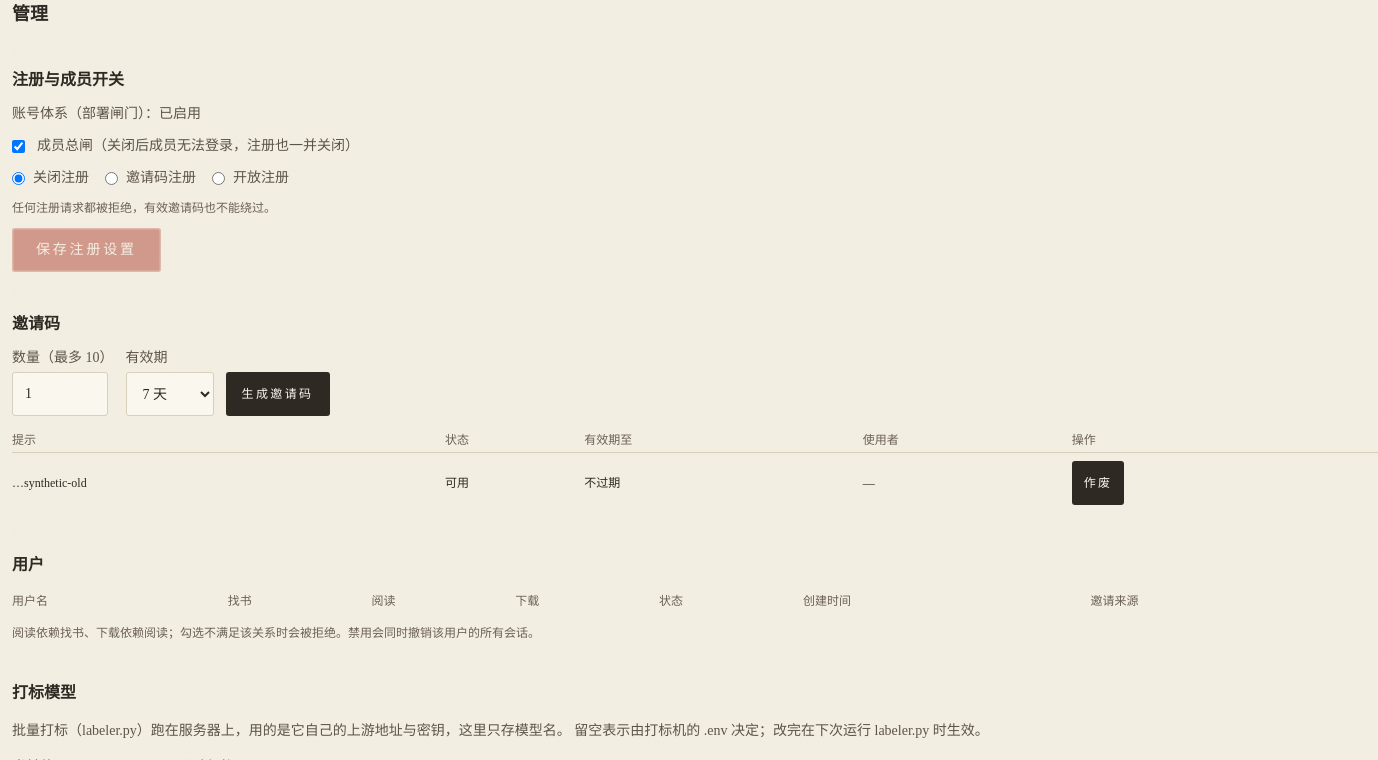
Test: keeps generated codes and the old list after refresh network failure
This screenshot has width=1378, height=760.
Click the button "生成邀请码" at (278, 394), box [226, 372, 330, 416]
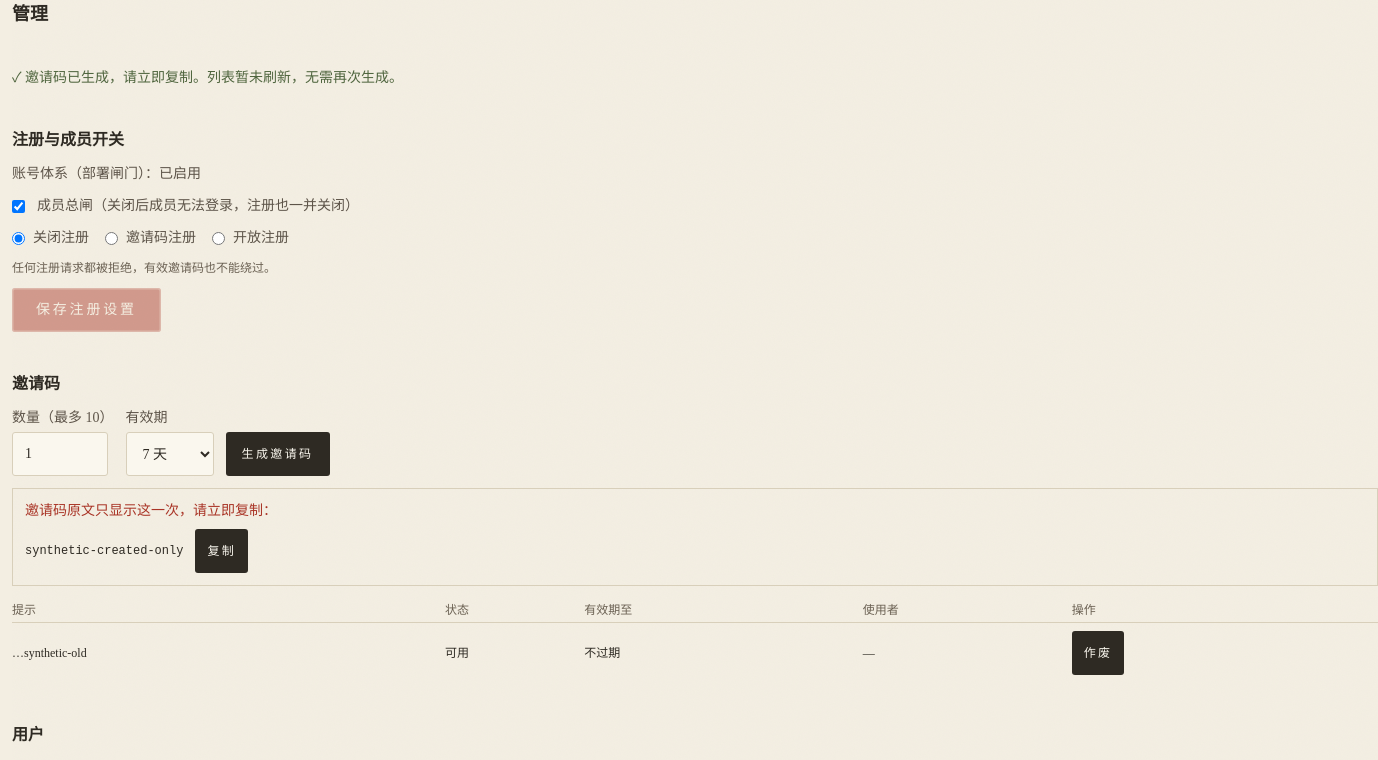
Check: the text "…synthetic-old" is shown, box [12, 622, 445, 683]
Check: the text "synthetic-created-only" is shown, box [25, 543, 183, 559]
